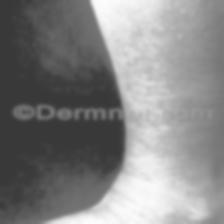Unclassified: (130, 132, 156, 146), (176, 31, 196, 48)
